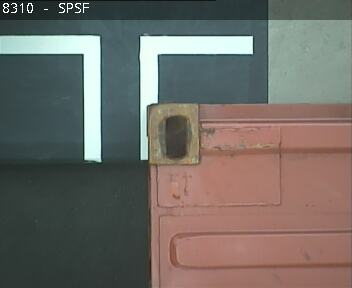groundmarker_1: (1, 35, 250, 158)
